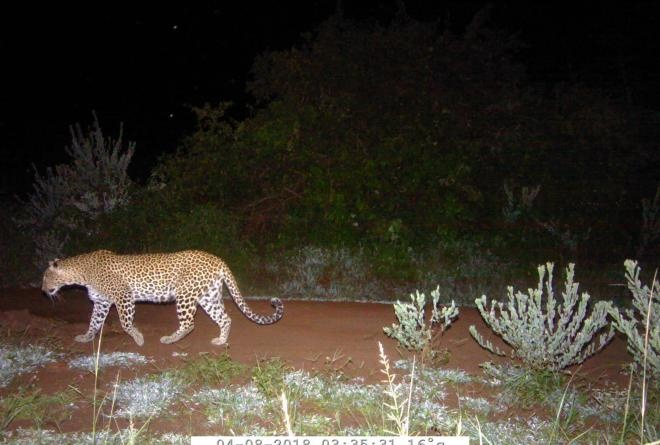leopard: (38, 245, 288, 348)
